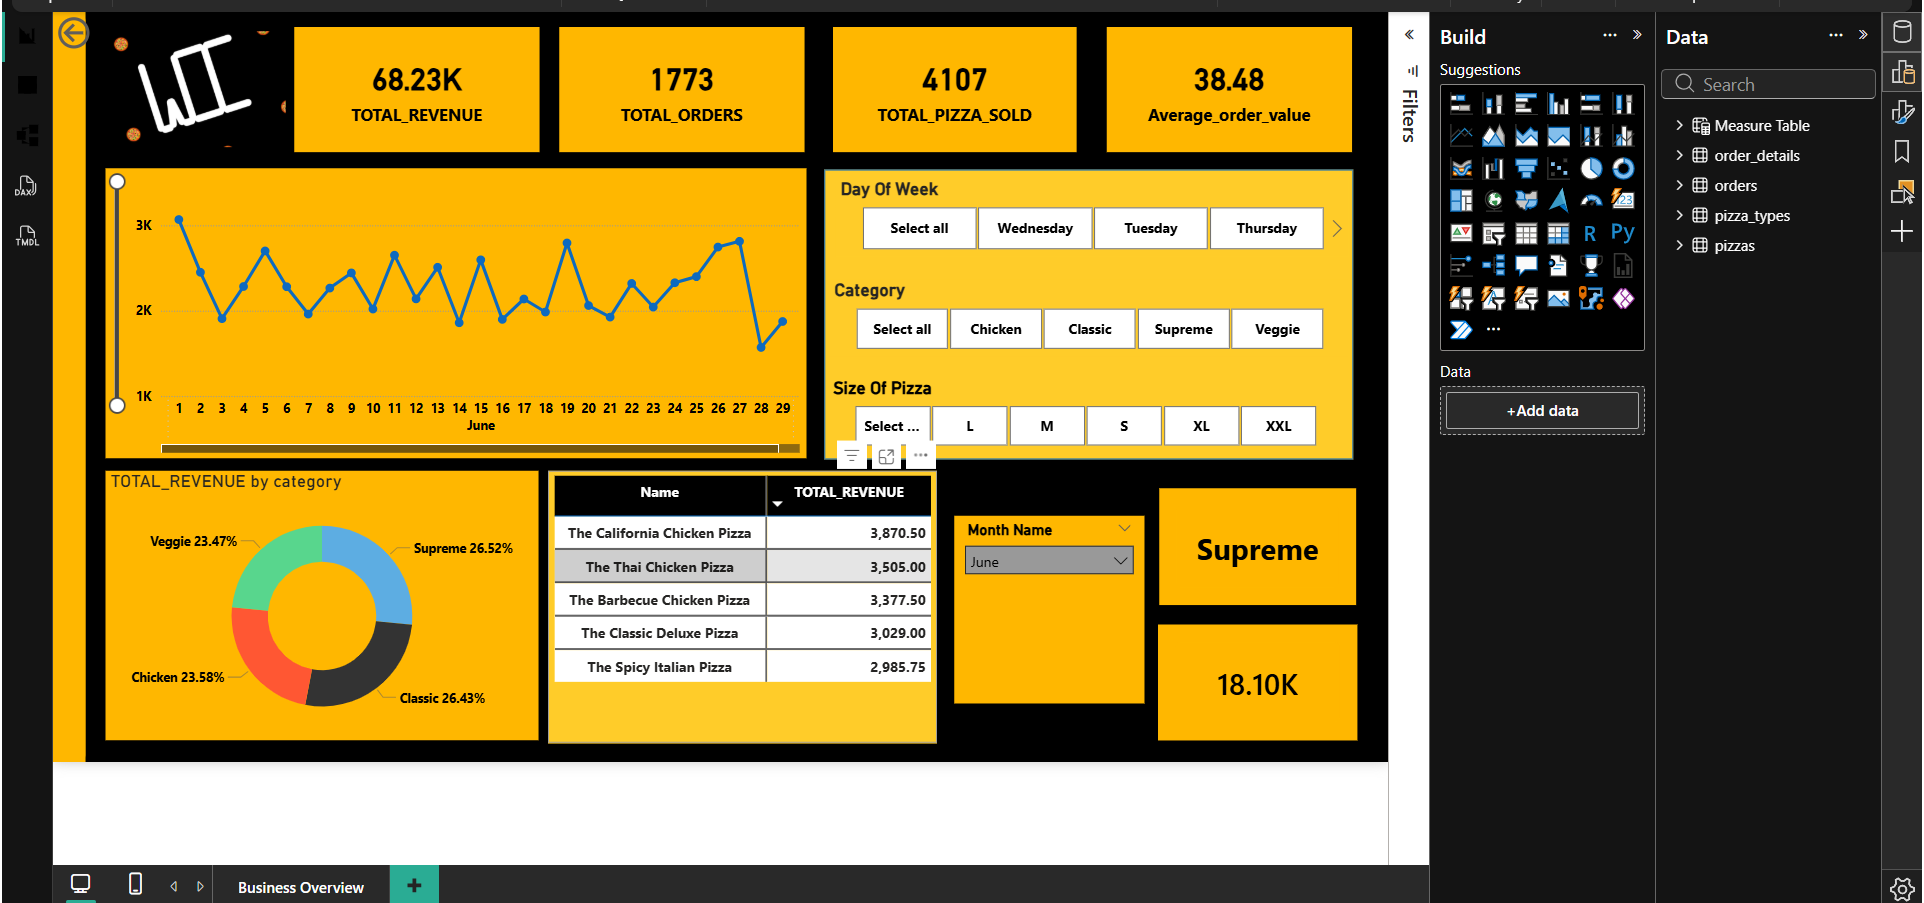

What the dashboard file says about the page in this screenshot:
{"tool":"powerbi","page":{"name":"Business Overview","canvas":[1280,720],"ordinal":0},"visuals":[{"type":"group","id":"g1","title":"Group 1","box":[231.3,14.4,1013.9,119.9],"z":0},{"type":"card","fields":{"Values":["Measure Table.TOTAL_REVENUE"]},"box":[231.3,14.4,235.2,119.7],"z":0,"group":"g1"},{"type":"shape","box":[739,151.2,507.3,278],"z":0,"group":"g2"},{"type":"card","fields":{"Values":["Measure Table.TOTAL_ORDERS"]},"box":[485.2,14.4,235.2,119.7],"z":1000,"group":"g1"},{"type":"lineChart","title":"Monthly Sales Trend","fields":{"Category":["orders.date.Variation.Date Hierarchy.Month","orders.date.Variation.Date Hierarchy.Day"],"Y":["Measure Table.TOTAL_REVENUE"]},"box":[49.8,149.5,671,277.6],"z":1000},{"type":"slicer","title":"Day Of Week","fields":{"Values":["orders.Weekday"]},"box":[749.9,159.5,492,75.1],"z":1000,"group":"g2"},{"type":"cardVisual","fields":{"Data":["Measure Table.Best Category (Selected Month - FORCE FIX)"]},"box":[1061.2,457,189,112.2],"z":1000,"group":"g3"},{"type":"shape","box":[0,0,31.2,720.3],"z":2000},{"type":"card","fields":{"Values":["Measure Table.TOTAL_PIZZA_SOLD"]},"box":[747.8,14.4,233.7,119.7],"z":2000,"group":"g1"},{"type":"slicer","title":"Category","fields":{"Values":["pizza_types.category"]},"box":[744,256.3,497.9,73.7],"z":2000,"group":"g2"},{"type":"cardVisual","fields":{"Data":["Measure Table.Best Category Revenue (Selected Month - FINAL)"]},"box":[1060,587.5,191.5,111],"z":2000,"group":"g3"},{"type":"card","fields":{"Values":["Measure Table.Average_order_value"]},"box":[1010.4,14.4,235.2,119.7],"z":3000,"group":"g1"},{"type":"slicer","title":"Size Of Pizza","fields":{"Values":["pizzas.size"]},"box":[742.5,350.2,492,72.2],"z":3000,"group":"g2"},{"type":"donutChart","fields":{"Y":["Measure Table.TOTAL_REVENUE"],"Category":["pizza_types.category"]},"box":[50.5,440,415.5,258.3],"z":3000},{"type":"group","id":"g2","title":"Group 2","box":[739,151.2,507.3,278],"z":4000},{"type":"tableEx","fields":{"Values":["pizza_types.name","Measure Table.TOTAL_REVENUE"]},"box":[475.1,439.9,372.6,261.6],"z":5000},{"type":"image","box":[50.5,14.4,173.1,119.7],"z":6000},{"type":"group","id":"g3","title":"Group 3","box":[1060,457,191.5,241.5],"z":7000},{"type":"actionButton","box":[0,0,100,40],"z":8000},{"type":"slicer","fields":{"Values":["orders.Month Name"]},"box":[864.1,483,182.2,179.8],"z":9000}]}

Visuals, with their boxes on the page's 1280x720 design canvas (x1, y1, x2, y2). These are canvas units, not pixel positions in the 1924x903 screenshot, which may show the page scaled, cropped or inside an application window:
"Group 1" group: (x1=231, y1=14, x2=1245, y2=134)
card - Measure Table.TOTAL_REVENUE: (x1=231, y1=14, x2=466, y2=134)
shape: (x1=739, y1=151, x2=1246, y2=429)
card - Measure Table.TOTAL_ORDERS: (x1=485, y1=14, x2=720, y2=134)
"Monthly Sales Trend" lineChart: (x1=50, y1=150, x2=721, y2=427)
"Day Of Week" slicer: (x1=750, y1=160, x2=1242, y2=235)
cardVisual - Measure Table.Best Category (Selected Month - FORCE FIX): (x1=1061, y1=457, x2=1250, y2=569)
shape: (x1=0, y1=0, x2=31, y2=720)
card - Measure Table.TOTAL_PIZZA_SOLD: (x1=748, y1=14, x2=982, y2=134)
"Category" slicer: (x1=744, y1=256, x2=1242, y2=330)
cardVisual - Measure Table.Best Category Revenue (Selected Month - FINAL): (x1=1060, y1=588, x2=1252, y2=698)
card - Measure Table.Average_order_value: (x1=1010, y1=14, x2=1246, y2=134)
"Size Of Pizza" slicer: (x1=742, y1=350, x2=1234, y2=422)
donutChart - Measure Table.TOTAL_REVENUE x pizza_types.category: (x1=50, y1=440, x2=466, y2=698)
"Group 2" group: (x1=739, y1=151, x2=1246, y2=429)
tableEx - pizza_types.name x Measure Table.TOTAL_REVENUE: (x1=475, y1=440, x2=848, y2=702)
image: (x1=50, y1=14, x2=224, y2=134)
"Group 3" group: (x1=1060, y1=457, x2=1252, y2=698)
actionButton: (x1=0, y1=0, x2=100, y2=40)
slicer - orders.Month Name: (x1=864, y1=483, x2=1046, y2=663)
